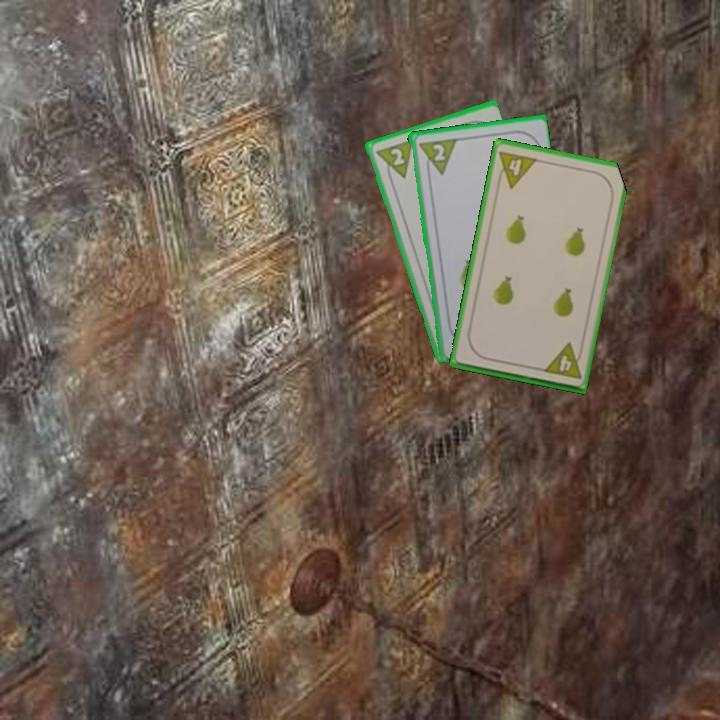2p: (386, 144, 407, 168), (428, 140, 448, 164)
4p: (493, 147, 540, 191), (540, 340, 586, 382)
